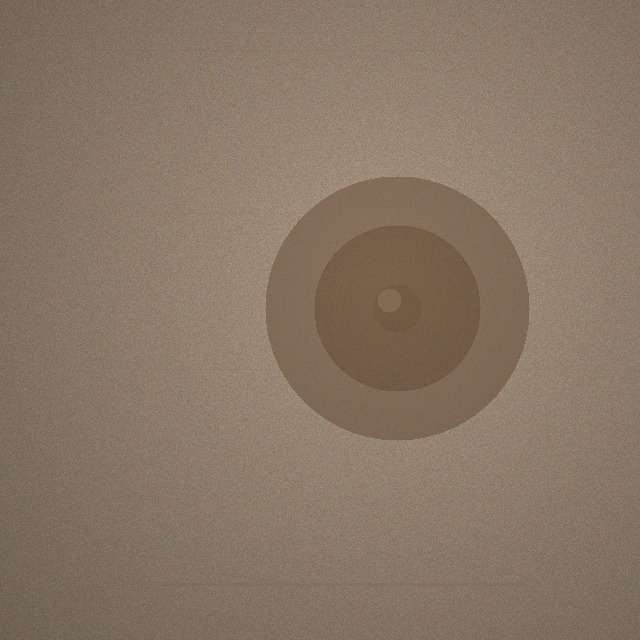good: (265, 176, 529, 440)
